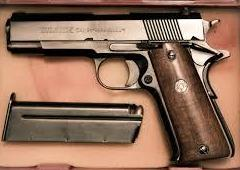gun: (1, 1, 240, 170)
